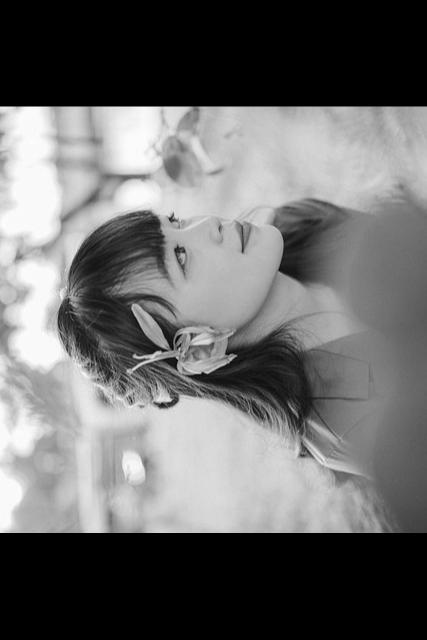Non_Gorille: (0, 137, 427, 527)
